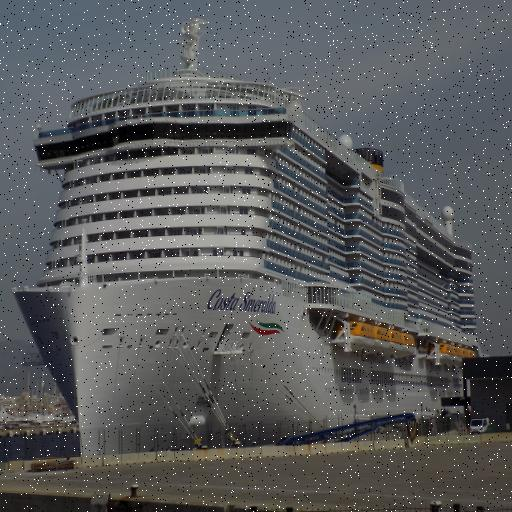cruises: (9, 14, 486, 466)
